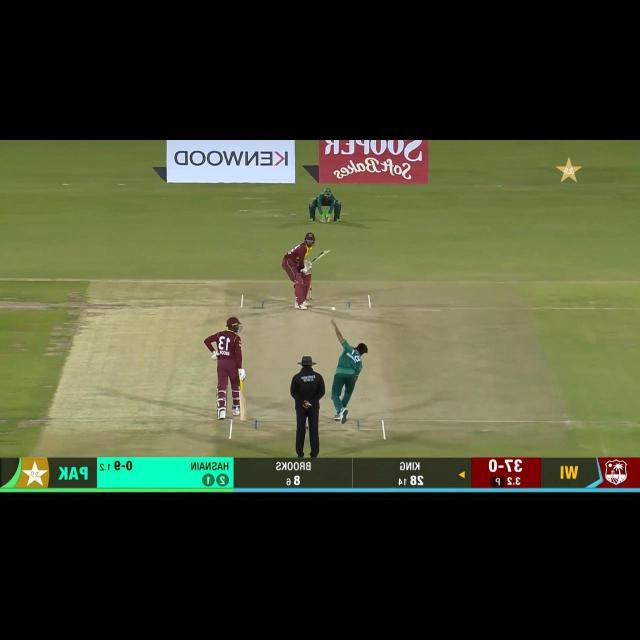bat: (307, 249, 330, 266), (237, 389, 248, 423)
toe: (322, 248, 331, 258), (241, 416, 247, 424)
